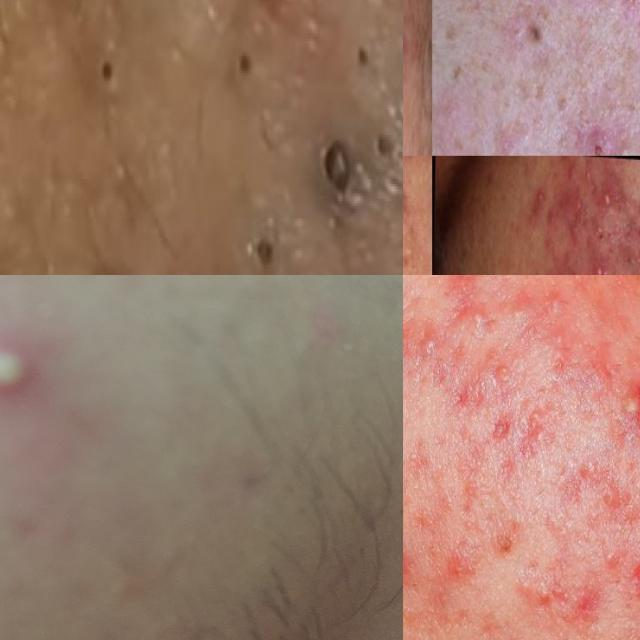acne_scars: (547, 447, 640, 532), (502, 275, 577, 350), (403, 309, 461, 400), (515, 392, 561, 463), (479, 404, 519, 455), (403, 170, 414, 238)
comedone: (320, 126, 364, 203), (593, 528, 628, 580), (529, 572, 565, 622), (590, 275, 620, 286)
papule: (586, 92, 624, 156), (403, 528, 422, 614)
pustule: (456, 294, 499, 345), (617, 375, 640, 437), (600, 178, 620, 216), (588, 254, 609, 275), (581, 164, 595, 193), (535, 183, 546, 208)
sebo-crystan-conglo: (403, 11, 416, 63)
